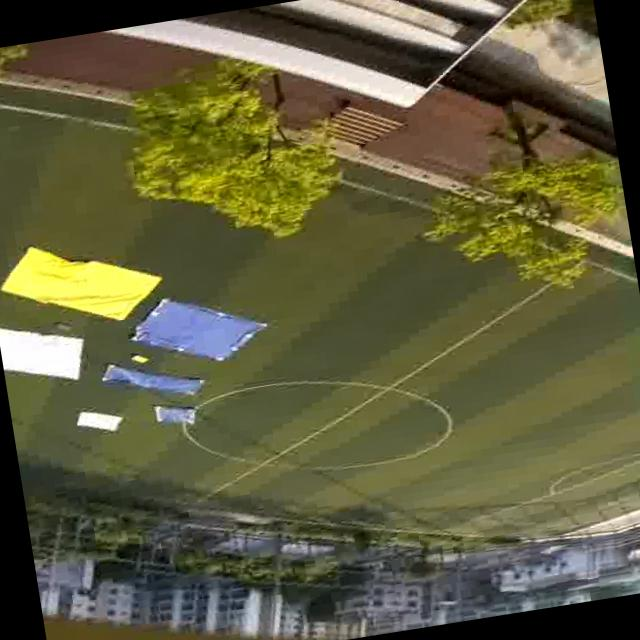danger: (150, 289, 254, 367), (120, 362, 192, 400), (148, 398, 202, 433)
safety: (0, 310, 95, 400), (72, 401, 129, 444)
warning: (7, 230, 147, 324)
